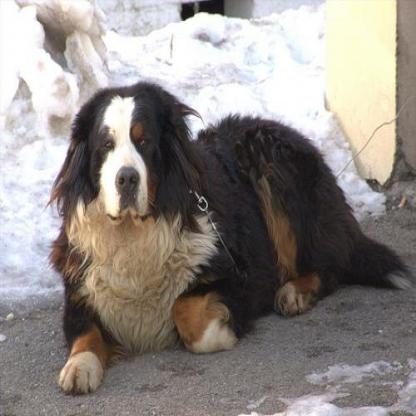Saint_Bernard: (28, 71, 400, 396)
